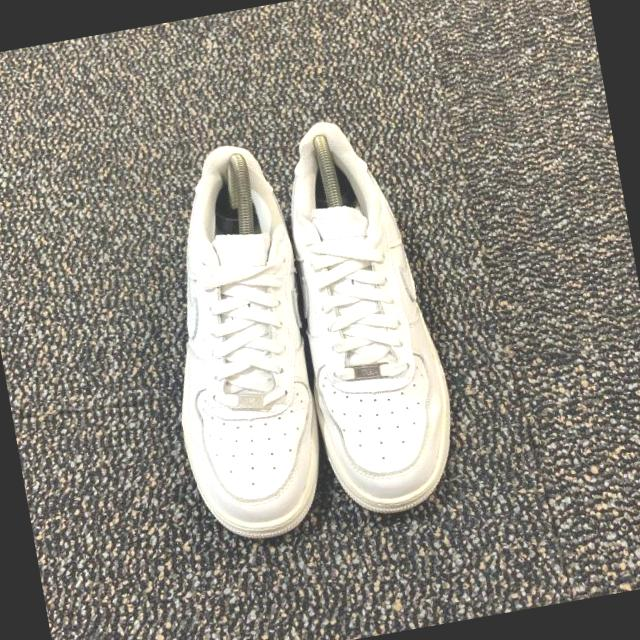nike_fake_airforce: (126, 133, 337, 546), (269, 117, 469, 528)
